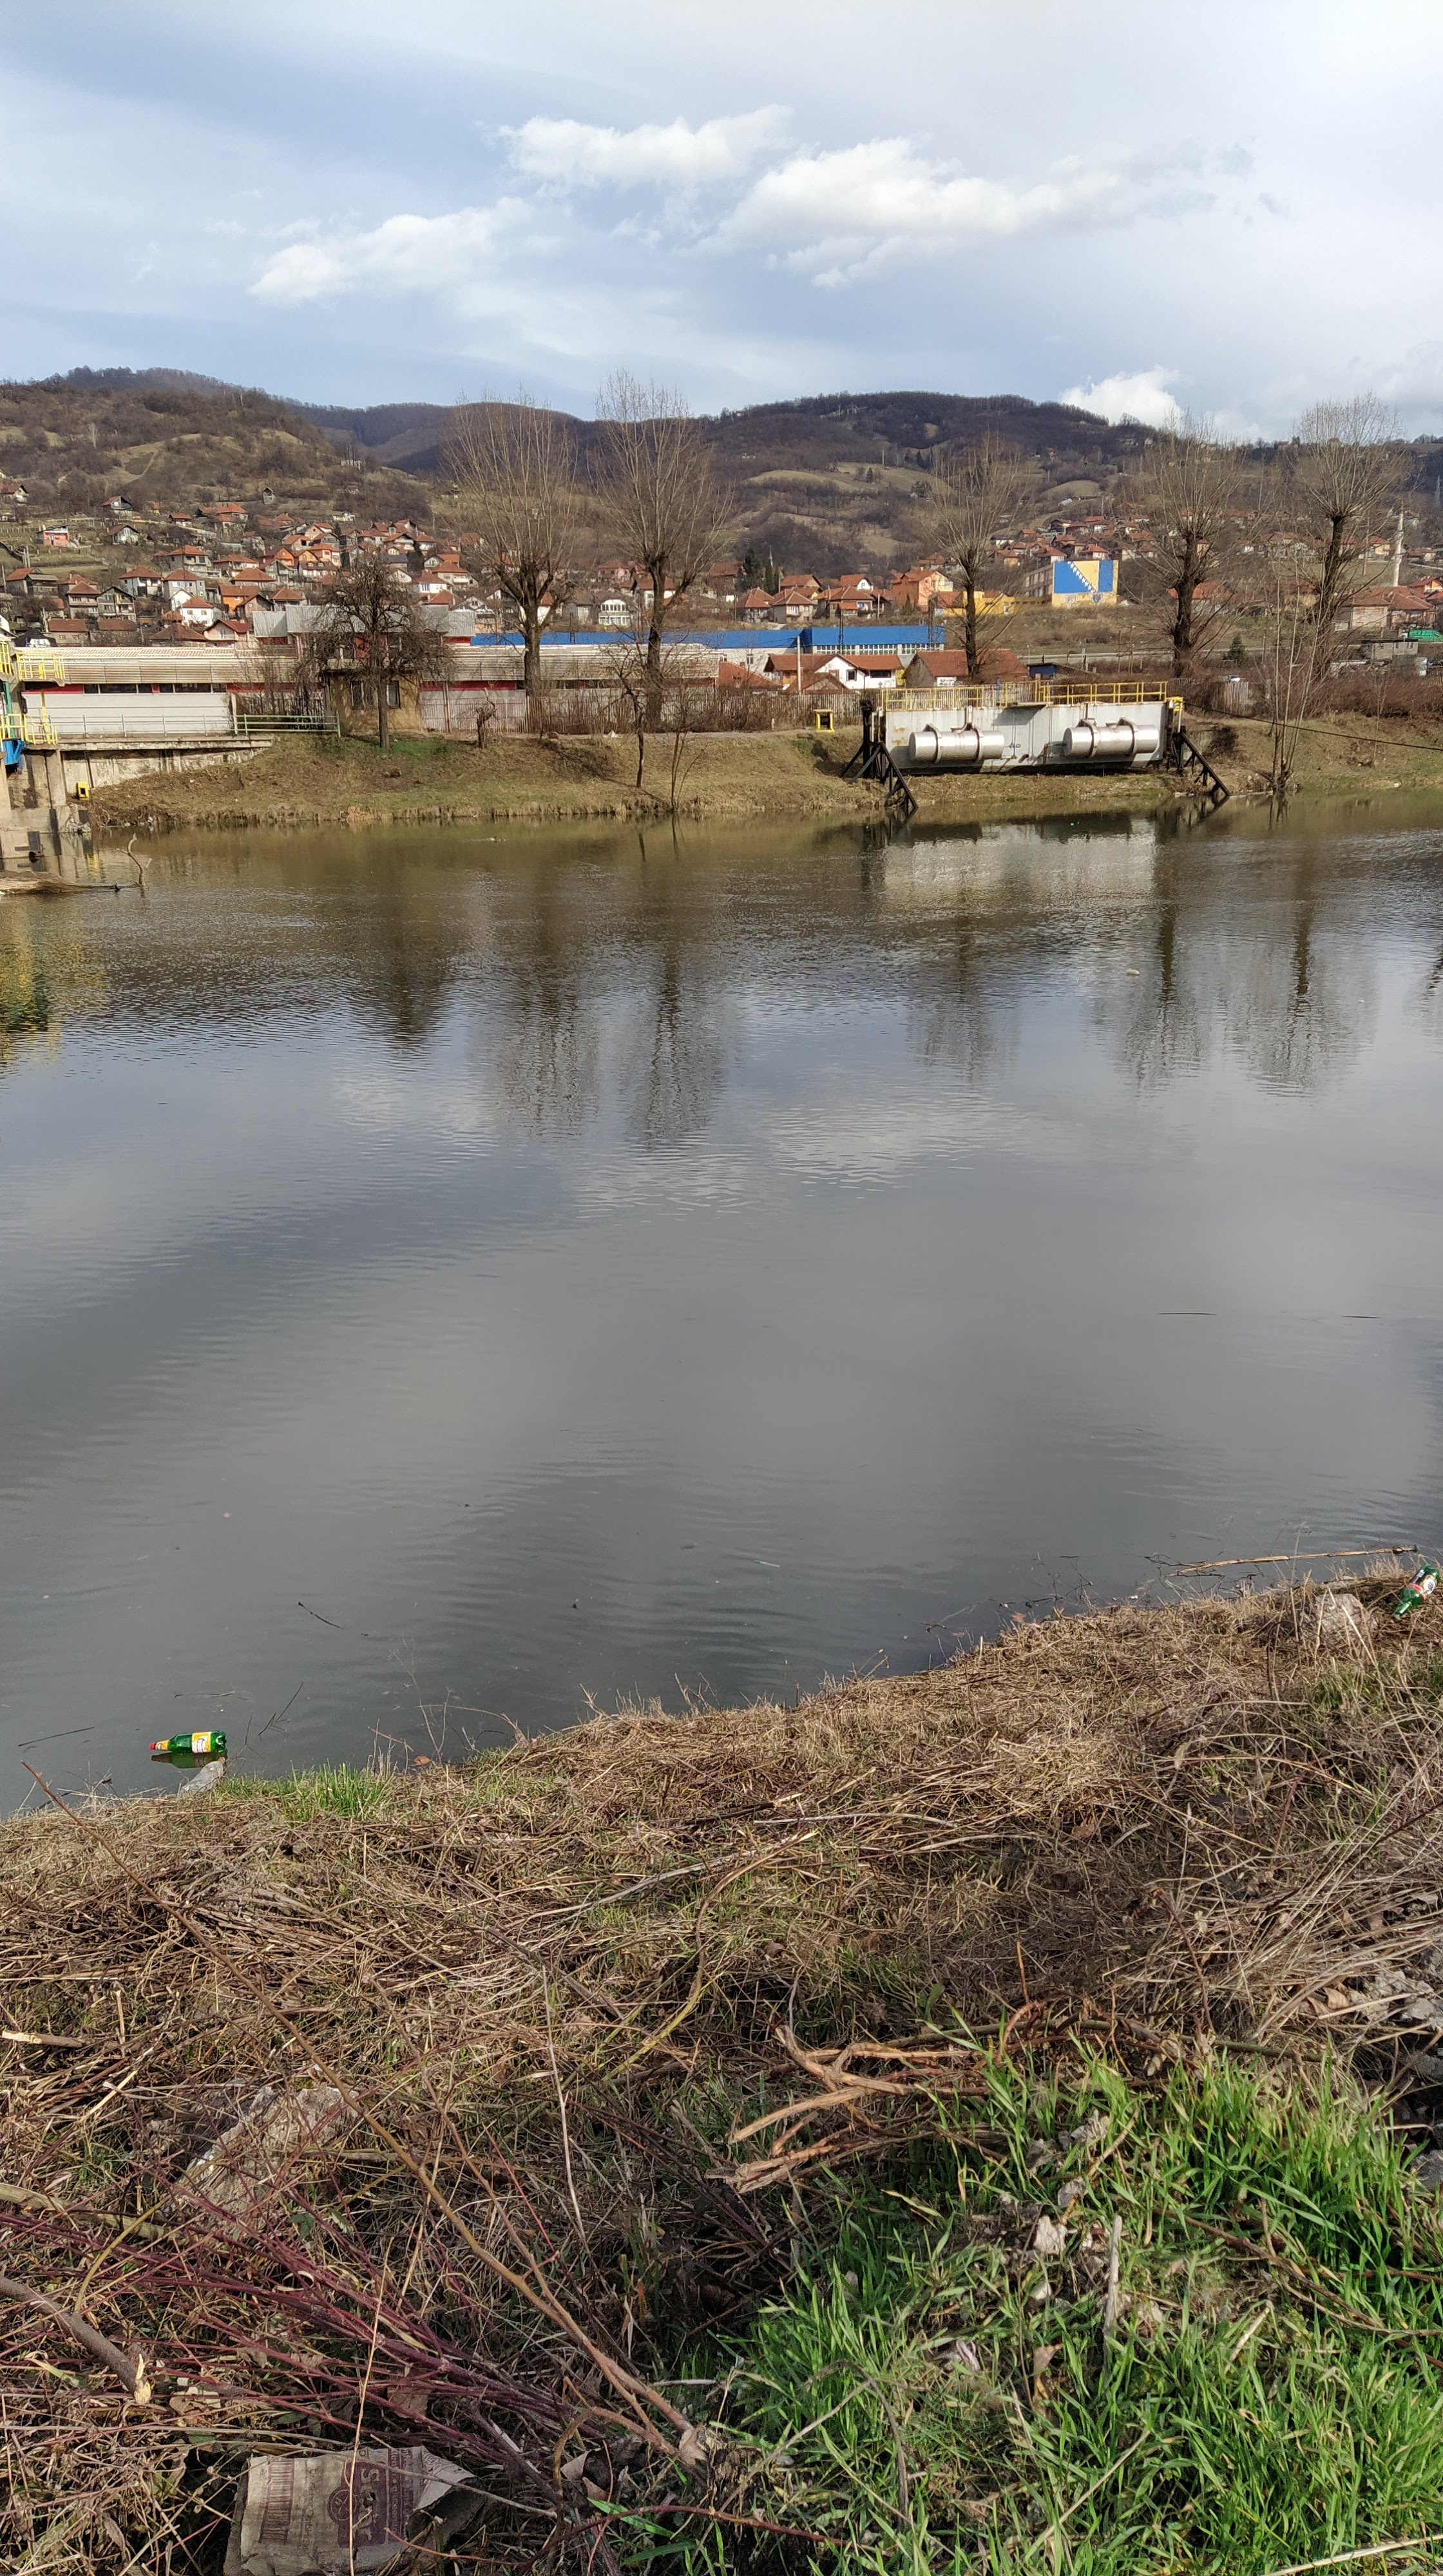Plastic Bottle: (149, 1730, 227, 1752), (179, 1757, 225, 1792), (1126, 968, 1138, 975)
